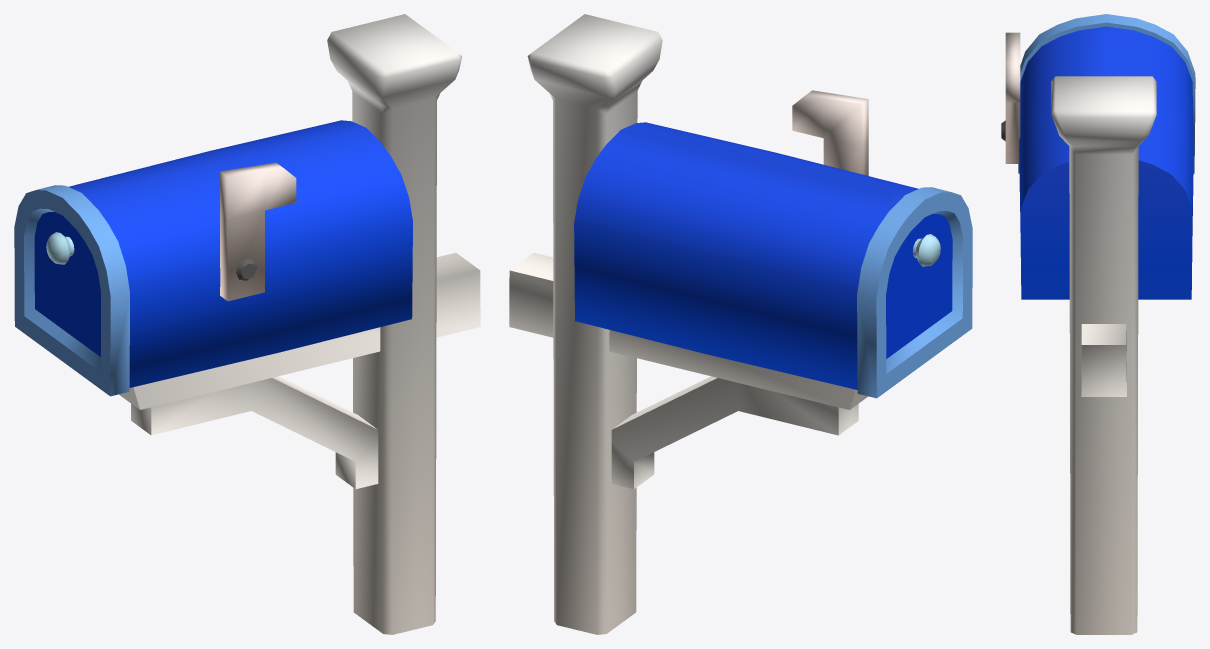
The model's file is Props_Mailbox_01.fbx.
3 renders of one model, left to right at view 1: azimuth 30°, elevation 25°; view 2: azimuth 150°, elevation 25°; view 3: azimuth 270°, elevation 25°, orthographic. The views are drawn at different scales.
Parts seen in each view (by area): view 1: Props_Mailbox_01; view 2: Props_Mailbox_01; view 3: Props_Mailbox_01.
Part boxes in pixels (bbox=[...]): Props_Mailbox_01: bbox=[14, 14, 480, 634]; Props_Mailbox_01: bbox=[509, 14, 972, 634]; Props_Mailbox_01: bbox=[1001, 14, 1195, 634].
Bounding box in the file's own units: 142 × 187 × 62.11.
